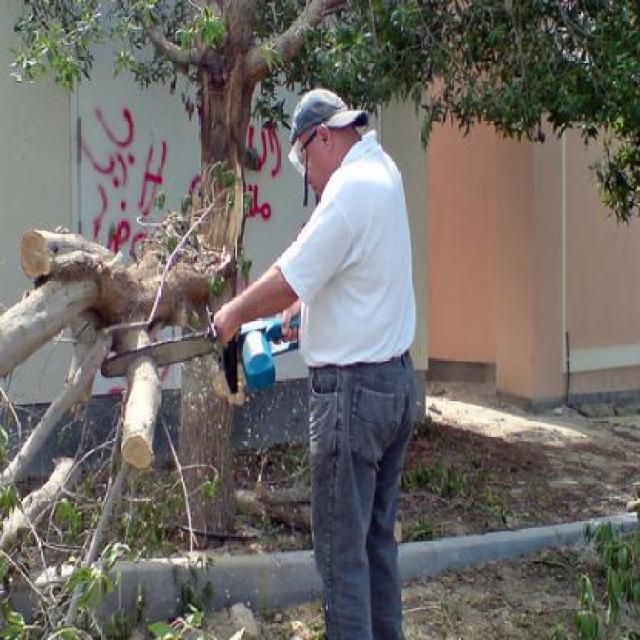Chainsaw: (102, 294, 304, 397)
